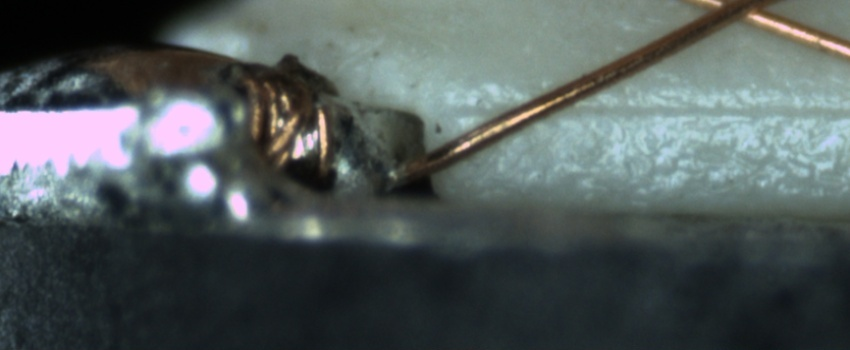CL: (692, 0, 788, 30)
DL: (462, 83, 850, 146)
TE: (235, 58, 343, 193)
